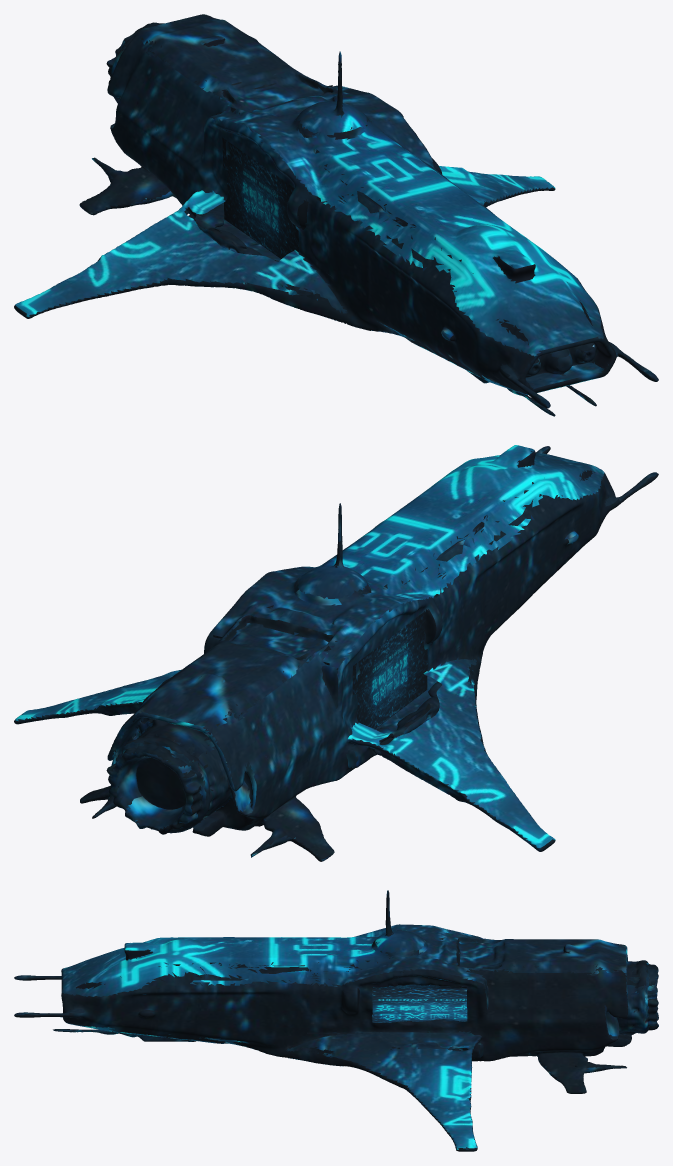
Rendered from ship1.glb.
The picture shows the model from 3 angles, top to bottom: view 1: azimuth 30°, elevation 25°; view 2: azimuth 150°, elevation 25°; view 3: azimuth 270°, elevation 25°; orthographic projection. The views are drawn at different scales.
Visible parts, largest first — view 1: Mesh_0; view 2: Mesh_0; view 3: Mesh_0.
Part boxes in pixels (x1,y1,x2,y2): Mesh_0: [14, 14, 658, 416]; Mesh_0: [14, 445, 658, 861]; Mesh_0: [14, 890, 658, 1151].
Bounding box in the file's own units: 13.59 × 5.9 × 20.2.
2 materials, 2 textured.
